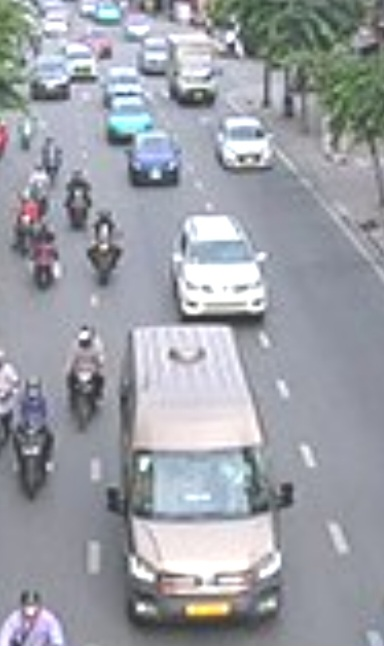car: (119, 327, 283, 621), (169, 208, 273, 325), (215, 114, 279, 172), (127, 129, 185, 185), (108, 96, 152, 141)
